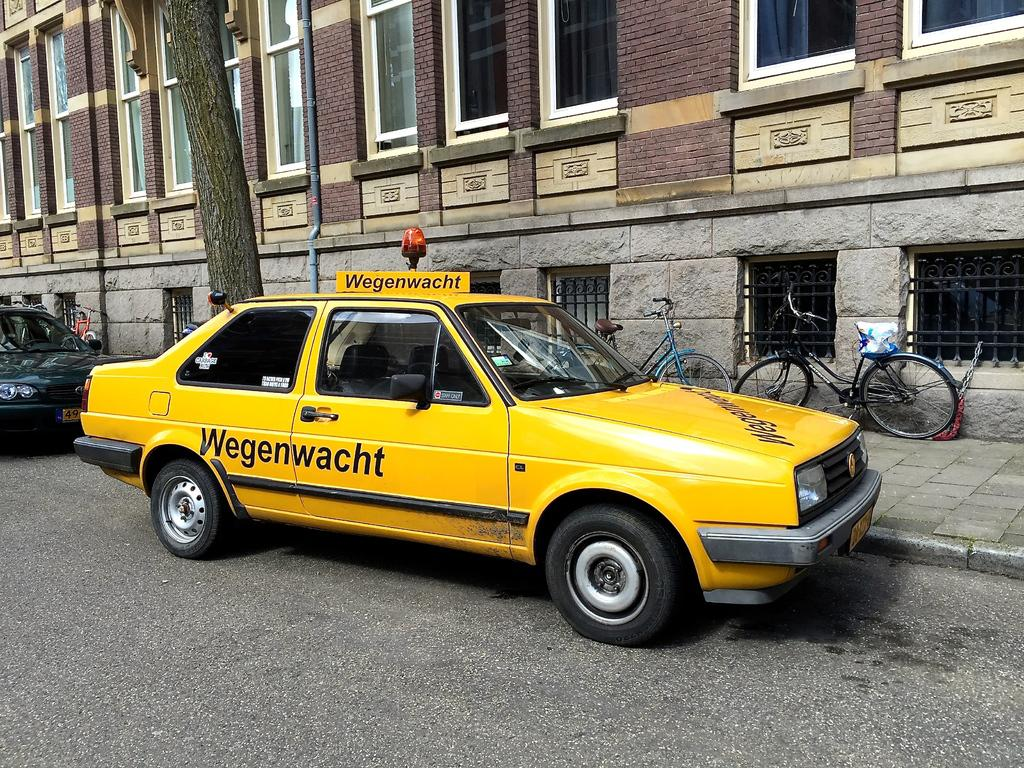taxi: (74, 271, 886, 648)
